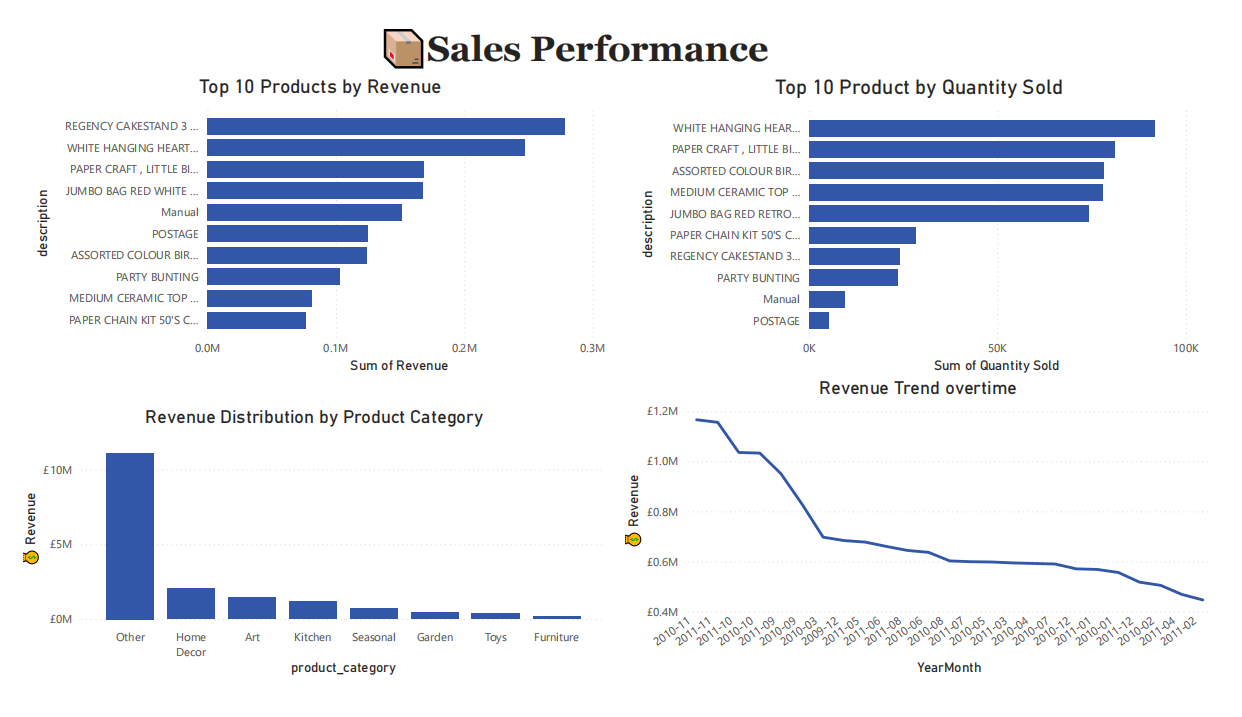

The dashboard page shown, as its layout file describes it:
{"tool":"powerbi","page":{"name":"Sales & Products Performance","canvas":[1280,720],"ordinal":5},"visuals":[{"type":"textbox","box":[377.4,0,442.4,66.7],"z":0},{"type":"clusteredBarChart","title":"Top 10 Products by Revenue","fields":{"Category":["Top 10 Products.description"],"Y":["Sum(Top 10 Products.Revenue)"]},"box":[13.3,60,613.3,320],"z":1000},{"type":"clusteredBarChart","title":"Top 10 Product by Quantity Sold","fields":{"Category":["Top_20_Products.description"],"Y":["Sum(Top_20_Products.Quantity Sold)"]},"box":[653.3,60,601.7,320],"z":2000},{"type":"lineChart","title":"Revenue Trend overtime","fields":{"Category":["Calendar.YearMonth"],"Y":["Calendar.💰 Revenue"]},"box":[638.3,380,630,320],"z":3000},{"type":"clusteredColumnChart","title":"Revenue Distribution by Product Category","fields":{"Y":["Calendar.💰 Revenue"],"Category":["dim_product.product_category"]},"box":[0,410,626.7,290],"z":5000}]}

Visuals, with their boxes in screenshot pixels (x1, y1, x2, y2), scaled from the page's 1280x720 canvas onto the 1242x717 screenshot:
textbox: [366, 0, 795, 66]
"Top 10 Products by Revenue" clusteredBarChart: [13, 60, 608, 378]
"Top 10 Product by Quantity Sold" clusteredBarChart: [634, 60, 1218, 378]
"Revenue Trend overtime" lineChart: [619, 378, 1231, 697]
"Revenue Distribution by Product Category" clusteredColumnChart: [0, 408, 608, 697]
